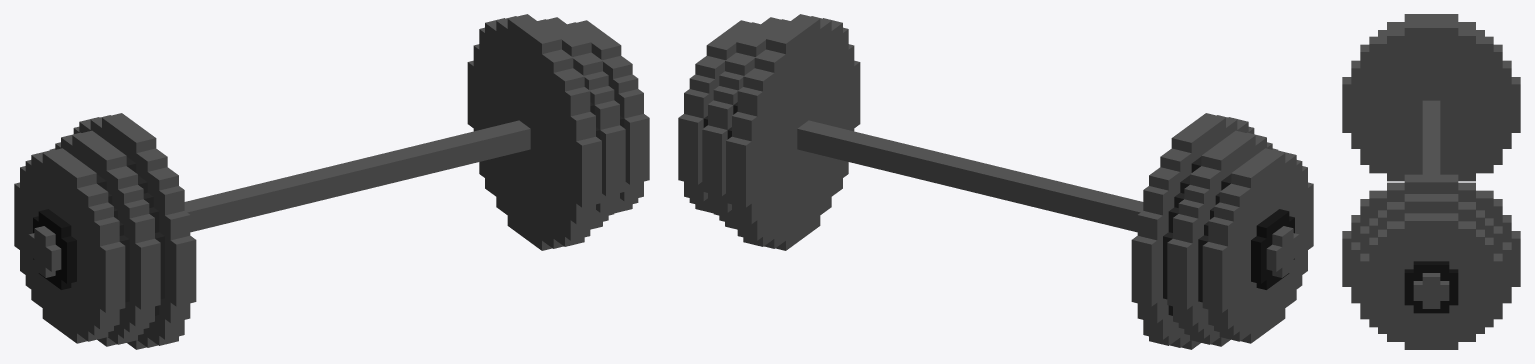
Rendered from weights.obj.
The picture shows the model from 3 angles, left to right: view 1: azimuth 30°, elevation 25°; view 2: azimuth 150°, elevation 25°; view 3: azimuth 270°, elevation 25°; orthographic projection. The views are drawn at different scales.
Size of the model in its own units: 5.9 by 2 by 2.
Materials: 1 (1 with a texture image).
